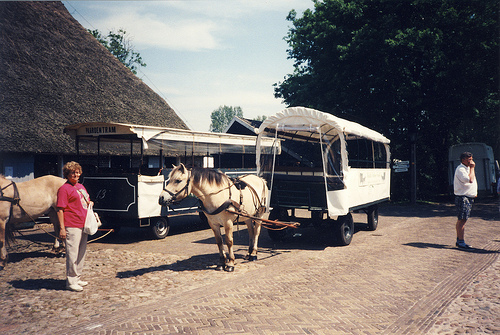horse: (160, 162, 270, 273)
